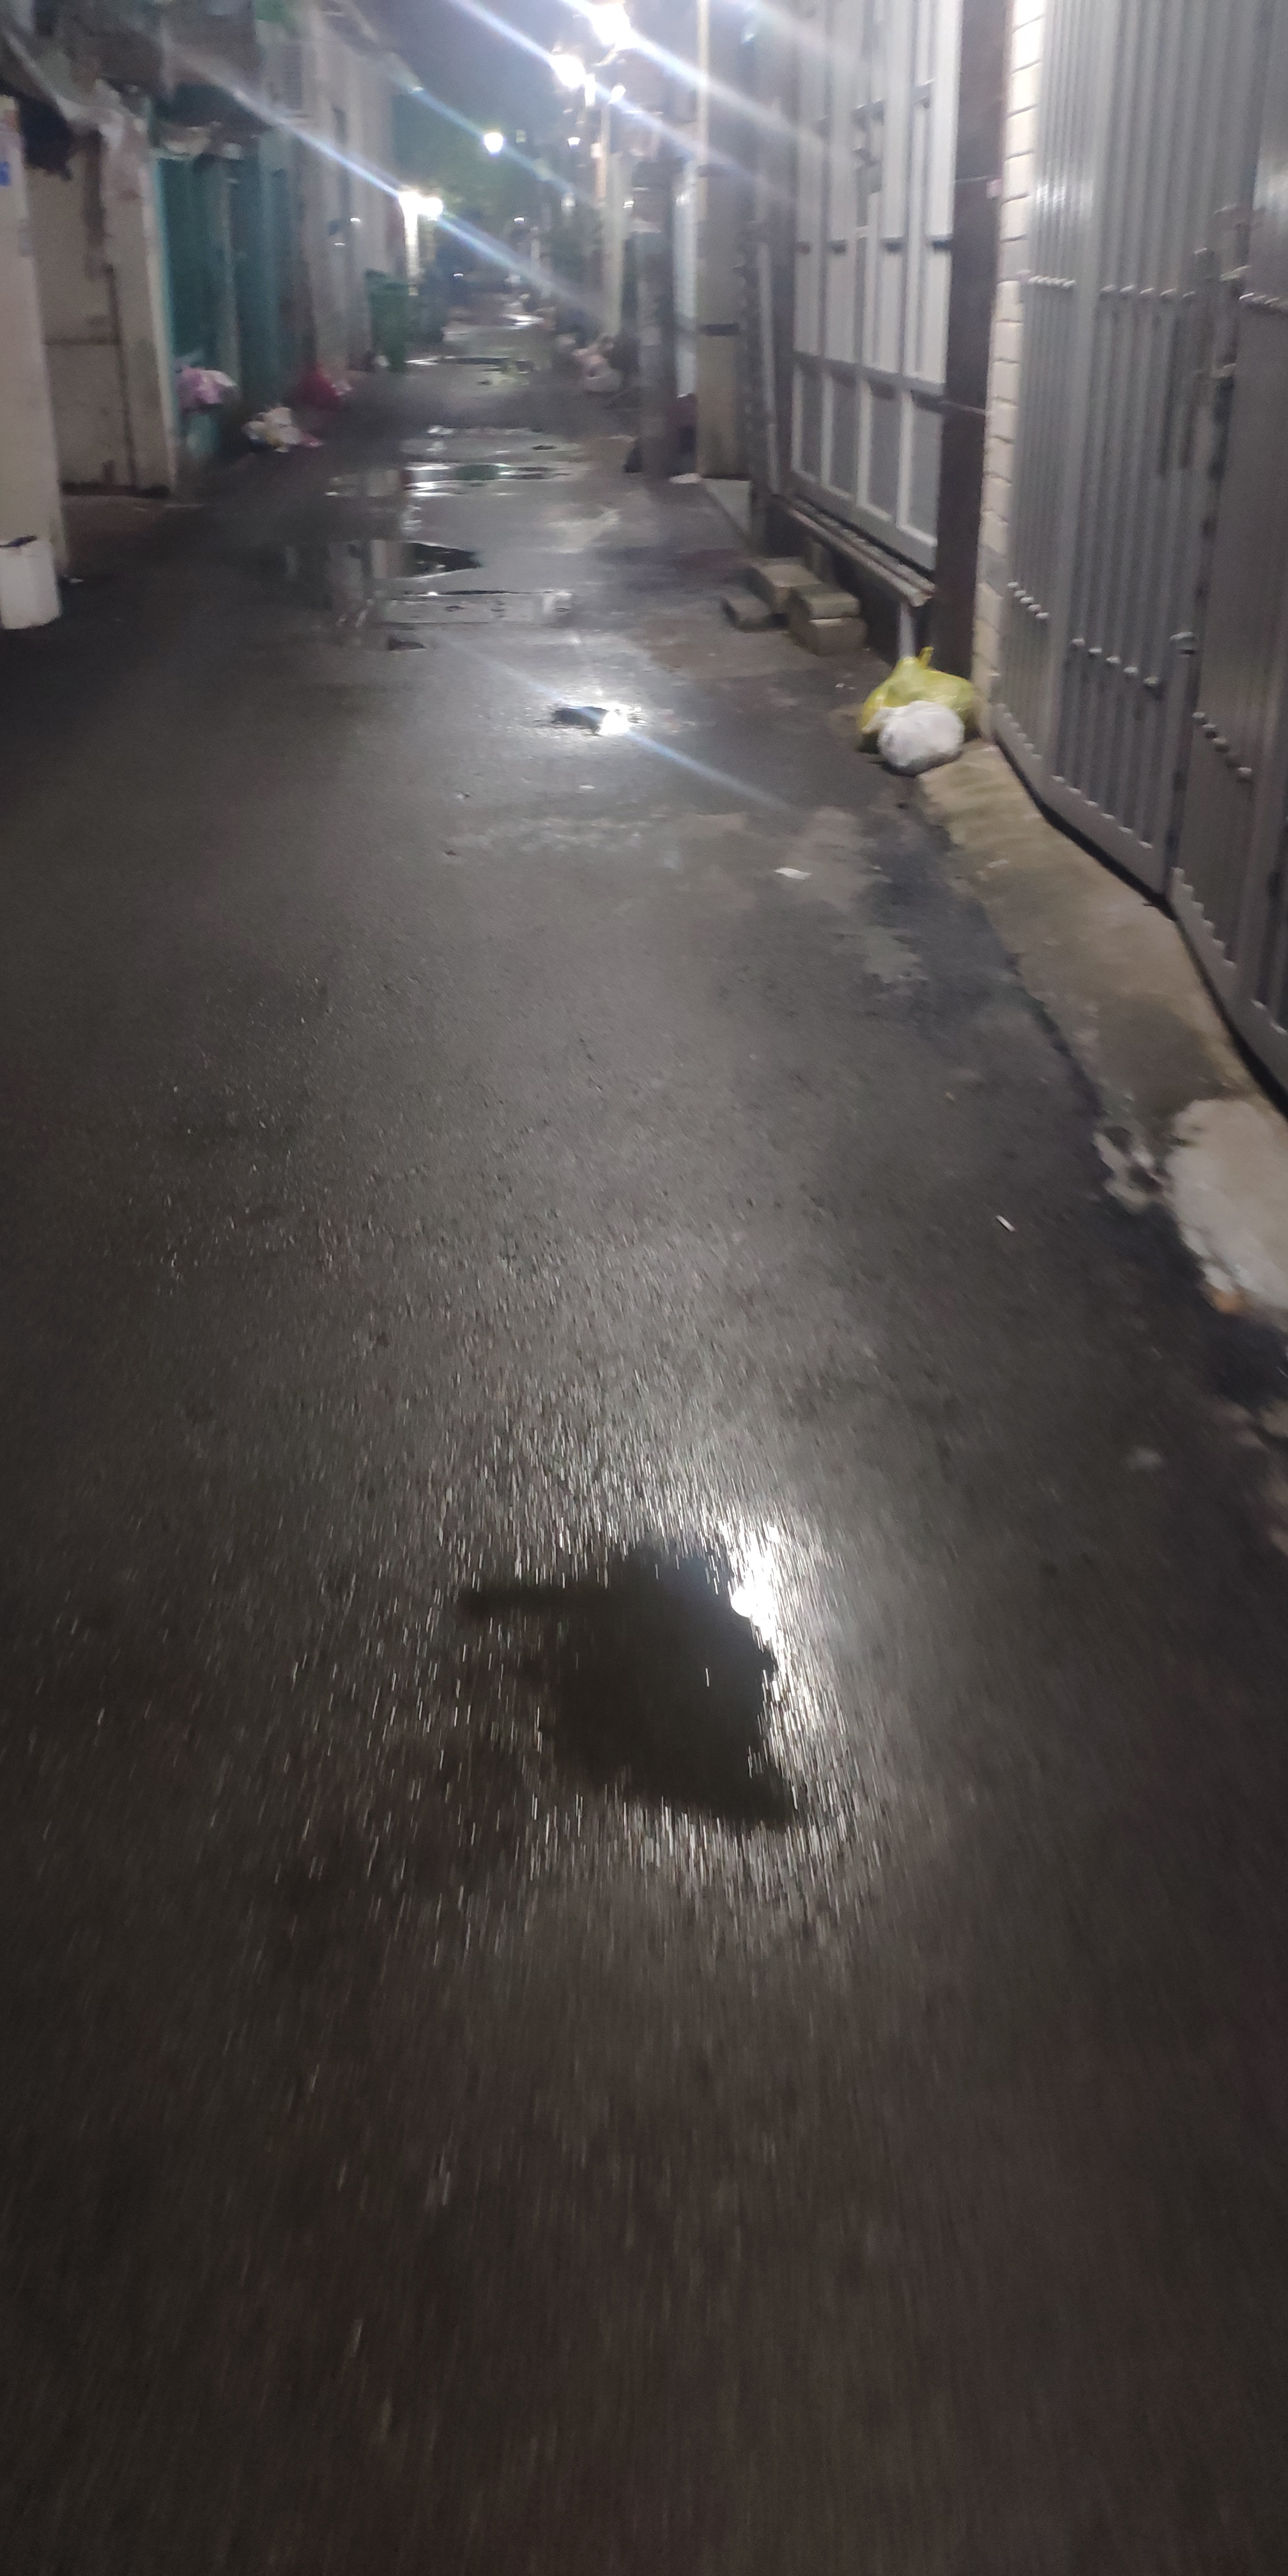hole: (396, 1467, 900, 1879), (220, 531, 486, 591), (319, 460, 575, 508), (531, 693, 655, 746), (291, 629, 429, 655), (409, 352, 545, 375), (527, 440, 563, 452)
